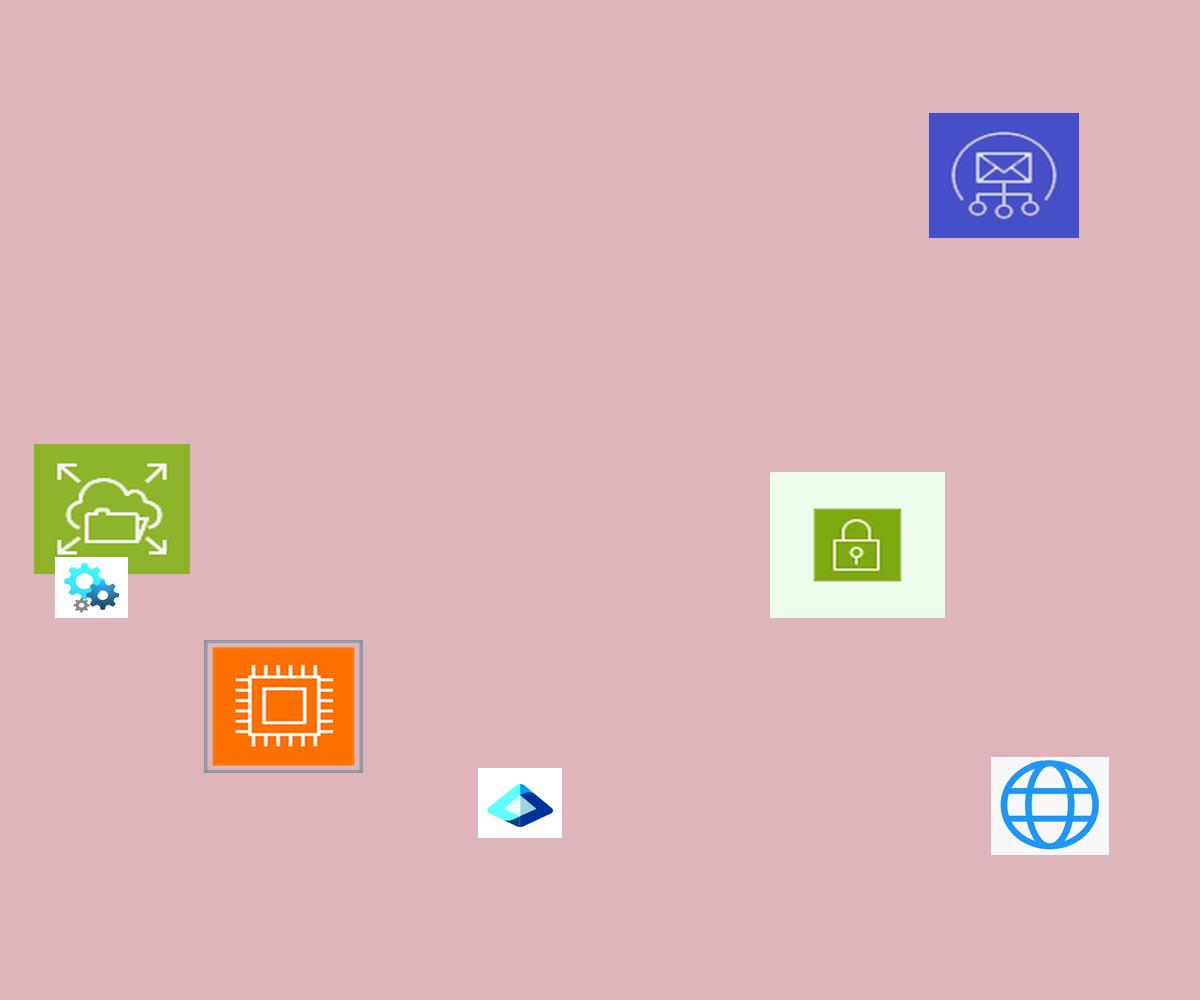AWS-Category_Compute: (204, 640, 363, 773)
AWS-EFS: (34, 444, 190, 574)
AWS-Public-subnet: (770, 472, 945, 618)
AWS-Simple-Email-Service: (929, 113, 1079, 238)
Azure_api: (55, 557, 128, 618)
Azure_http: (991, 757, 1109, 855)
Azure_microsoft_entra: (478, 768, 562, 838)
